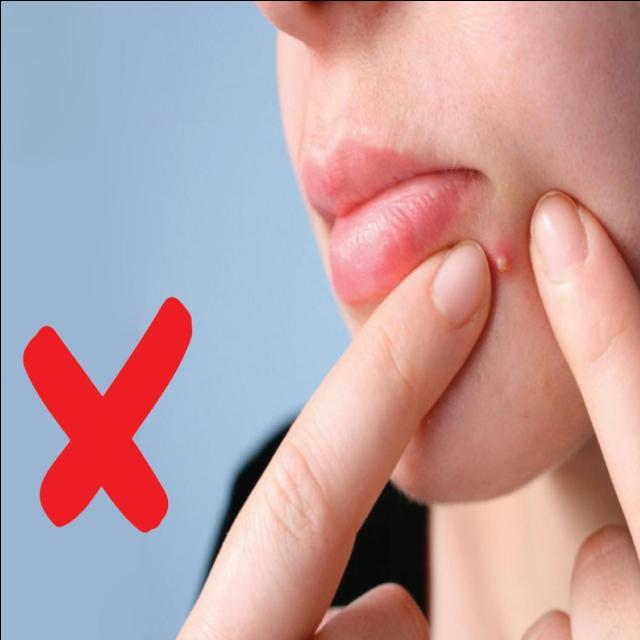pustule: (489, 244, 521, 285)
